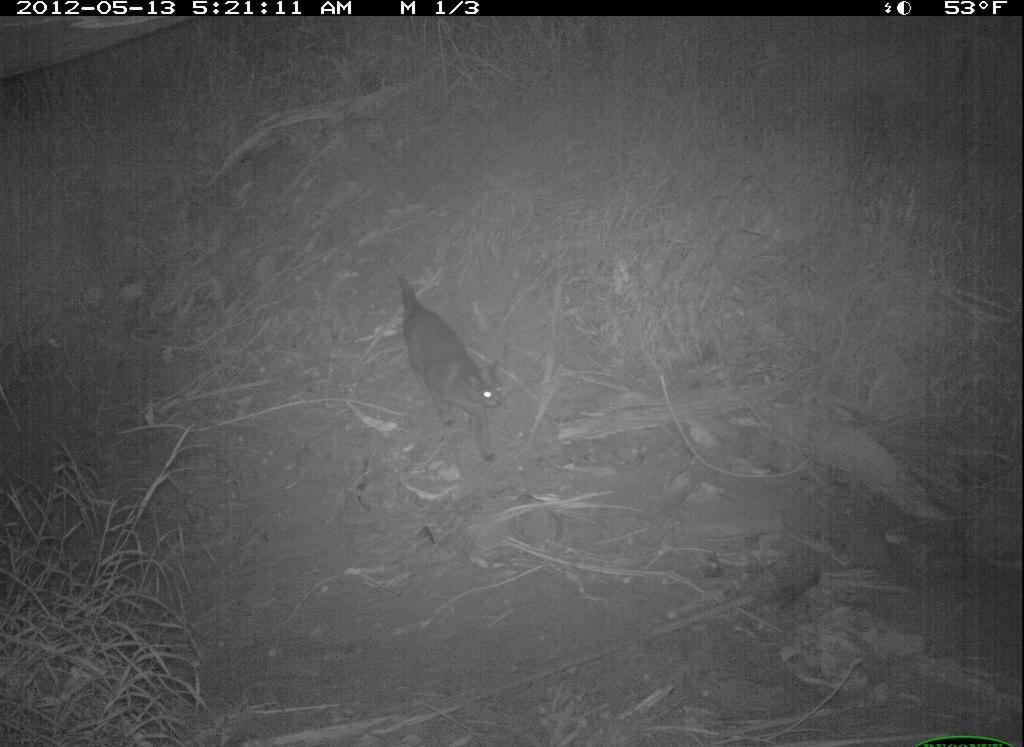cat: (393, 268, 511, 474)
